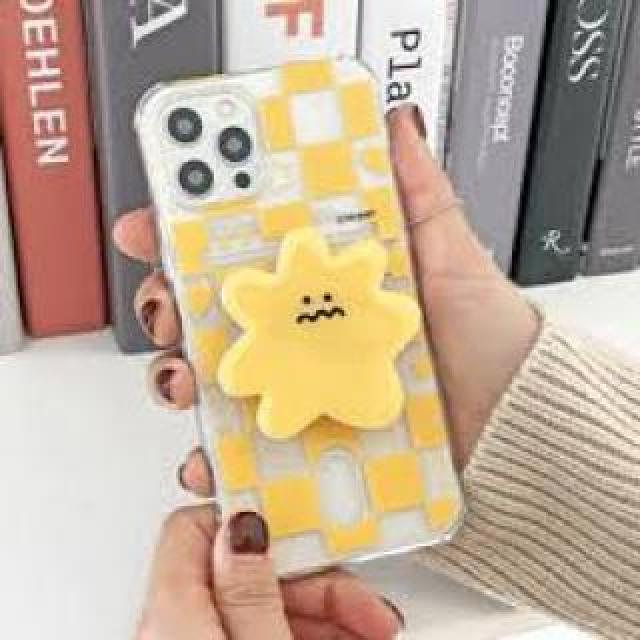smart phone: (138, 45, 478, 557)
